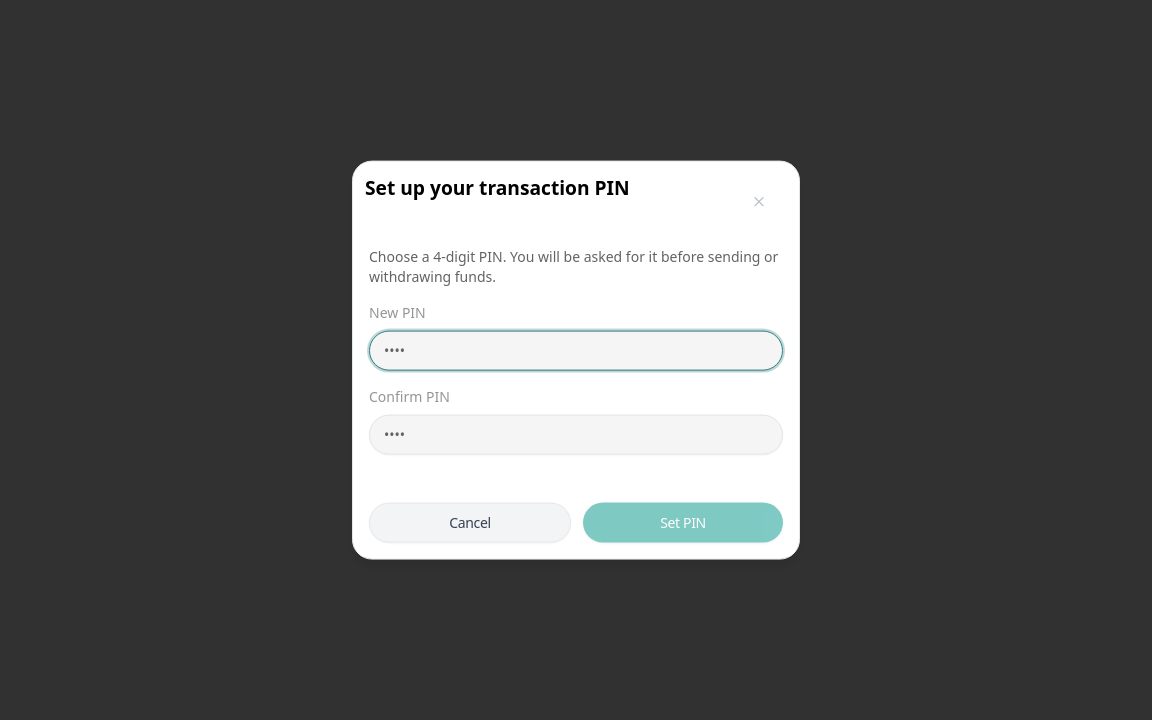
Test: SetTransactionPinModal › blocks submission when PINs do not match
The width and height of the screenshot is (1152, 720).
Type "1234" into the password field labelled "New PIN" at (576, 350), box [369,330,783,370]
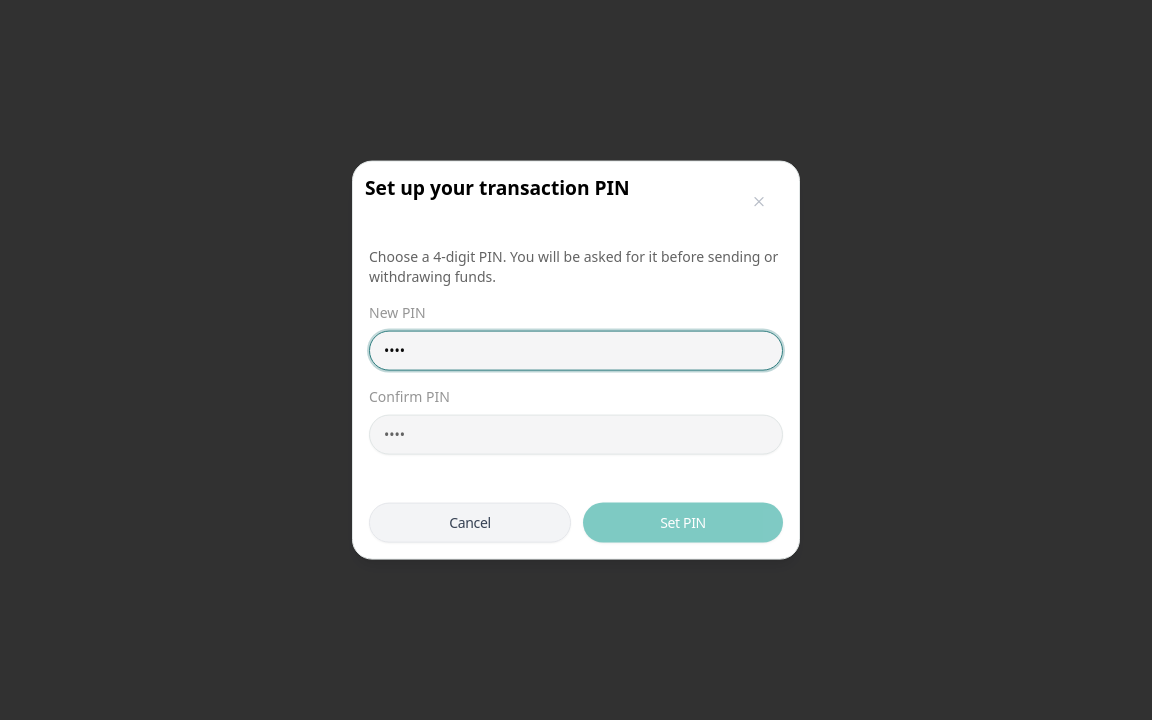
Type "5678" into the password field labelled "Confirm PIN" at (576, 434), box [369,414,783,454]
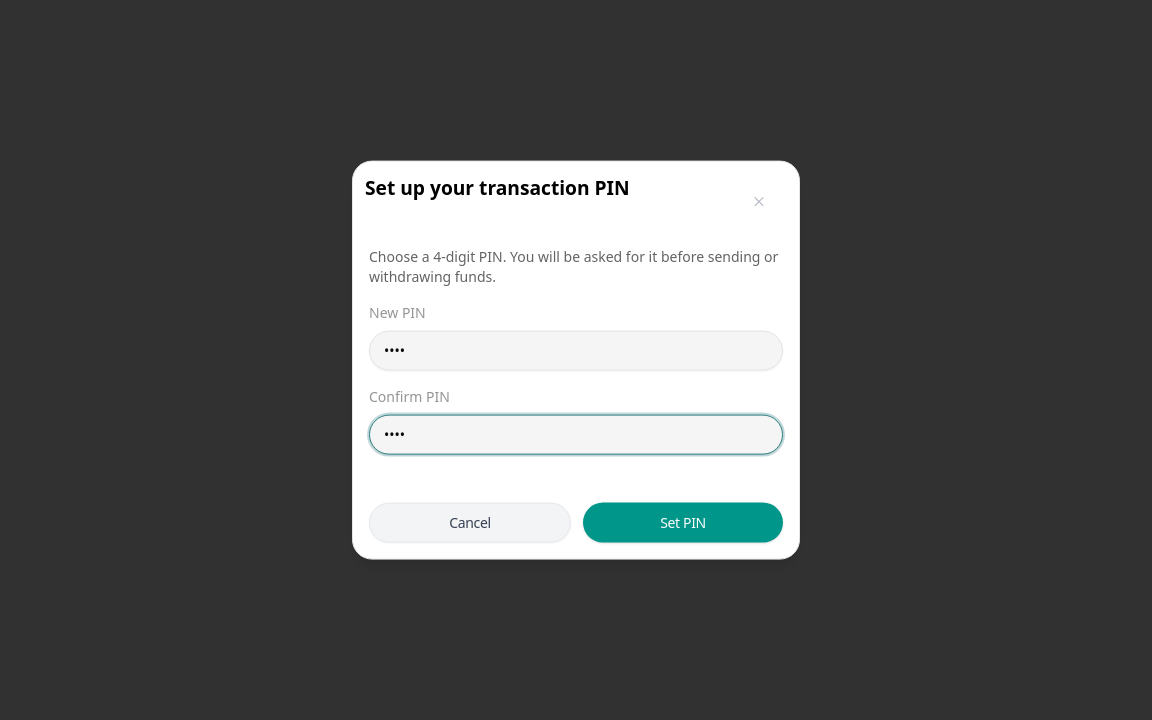
Click the button "Set PIN" at (683, 522), box [583,502,783,542]
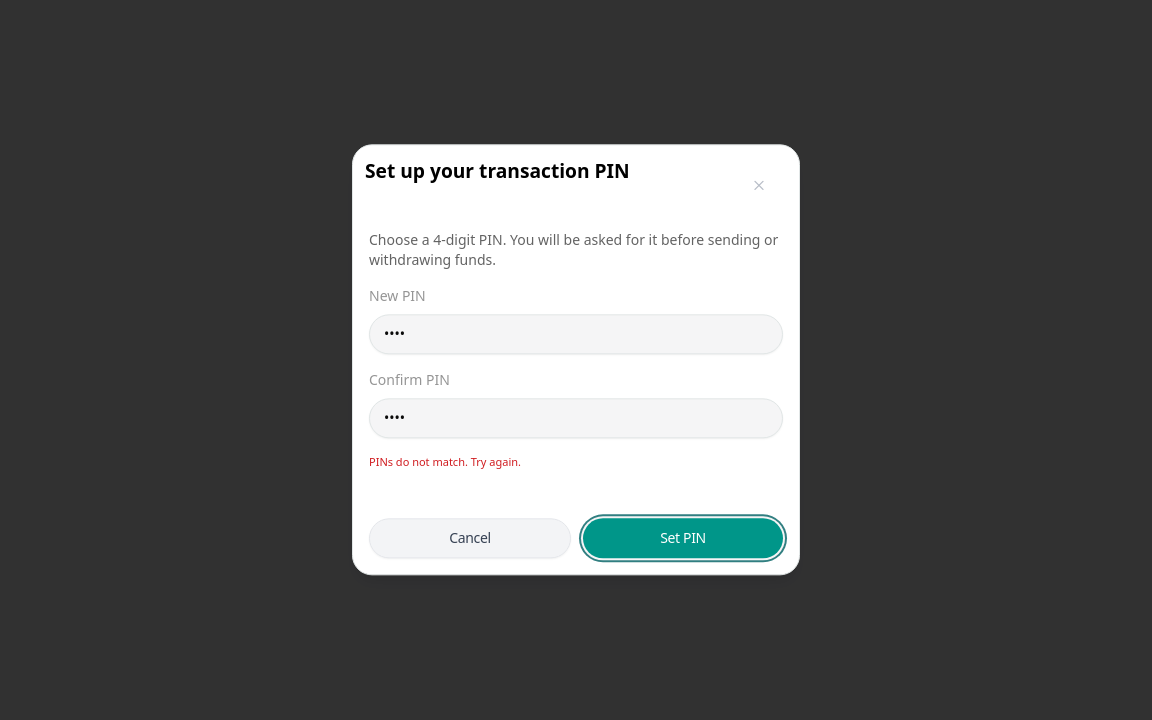
Check: the message shows "do not match", box [369,454,521,469]
